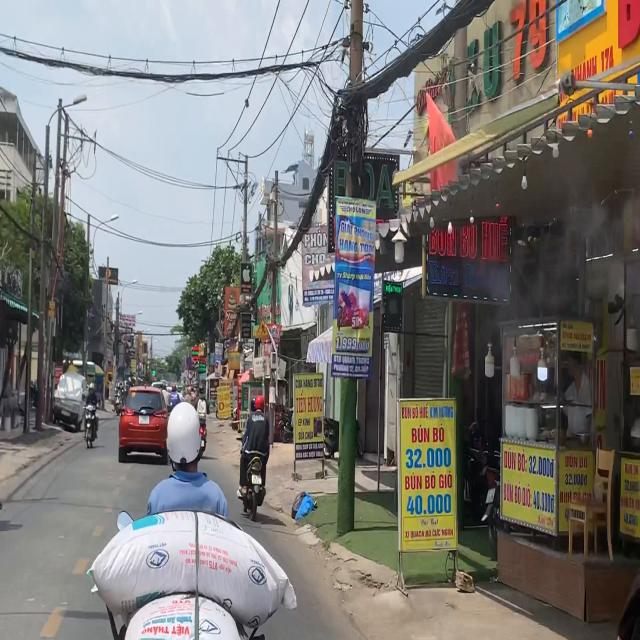Nguoi di bo cat ngang: (256, 315, 270, 341)
